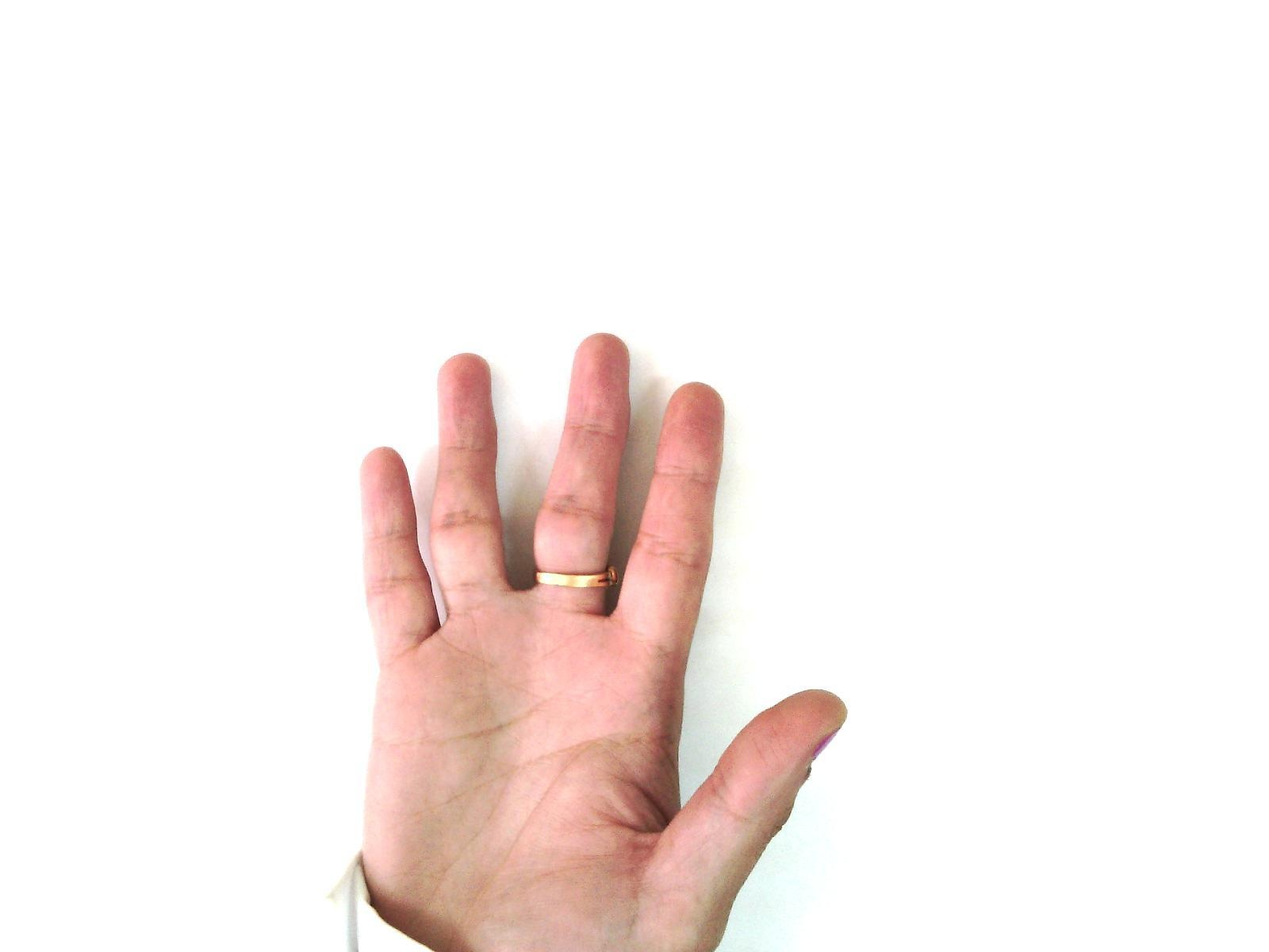open_palm: (349, 332, 849, 951)
